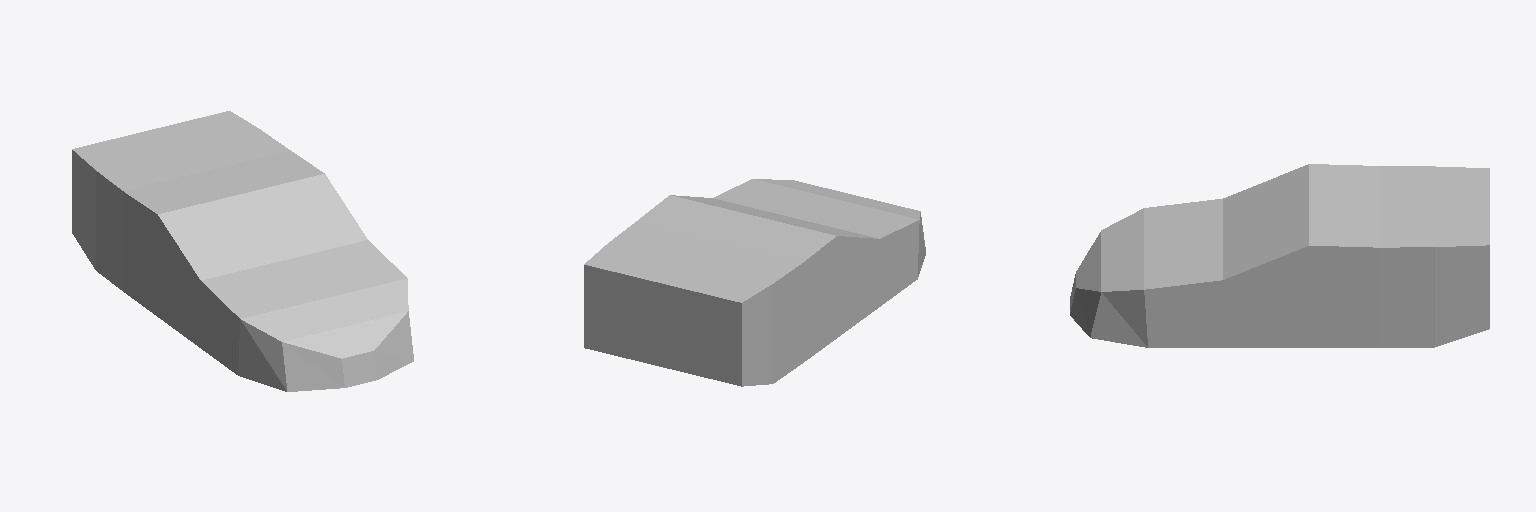
The model's file is corvette_hull.obj.
3 renders of one model, left to right at view 1: azimuth 30°, elevation 25°; view 2: azimuth 150°, elevation 25°; view 3: azimuth 270°, elevation 25°, orthographic.
Visible parts, largest first — view 1: Cube_Cube.001; view 2: Cube_Cube.001; view 3: Cube_Cube.001.
Part boxes in pixels (left/top/right/bottom): Cube_Cube.001: left=72, top=111, right=413, bottom=391; Cube_Cube.001: left=584, top=179, right=925, bottom=386; Cube_Cube.001: left=1070, top=164, right=1489, bottom=347.
Bounding box in the file's own units: 6.93 × 4.06 × 15.08.